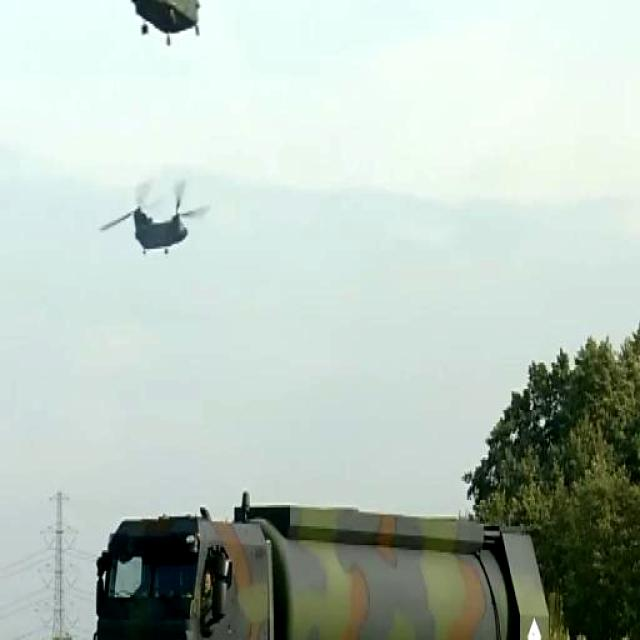drone: (98, 172, 212, 255), (88, 0, 261, 52)
